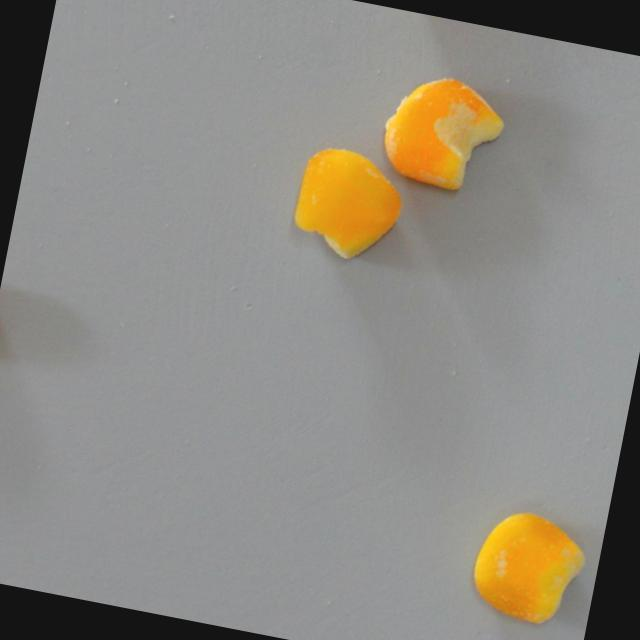pelicula: (377, 67, 513, 196), (466, 503, 595, 632), (286, 146, 405, 261)
